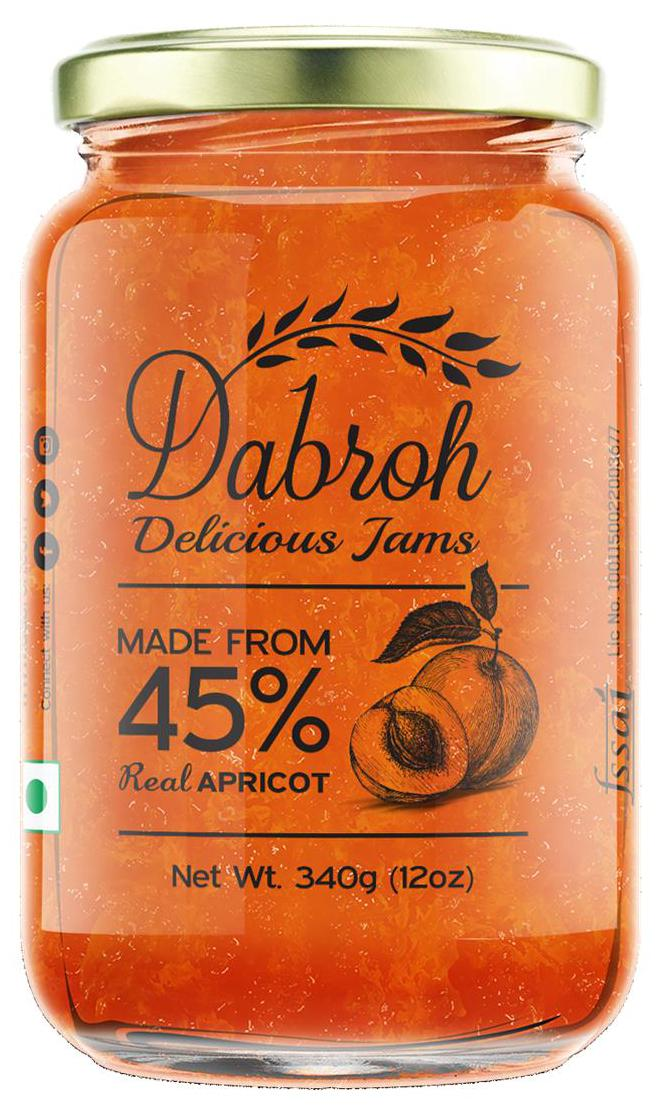JAR: (11, 15, 651, 1097)
